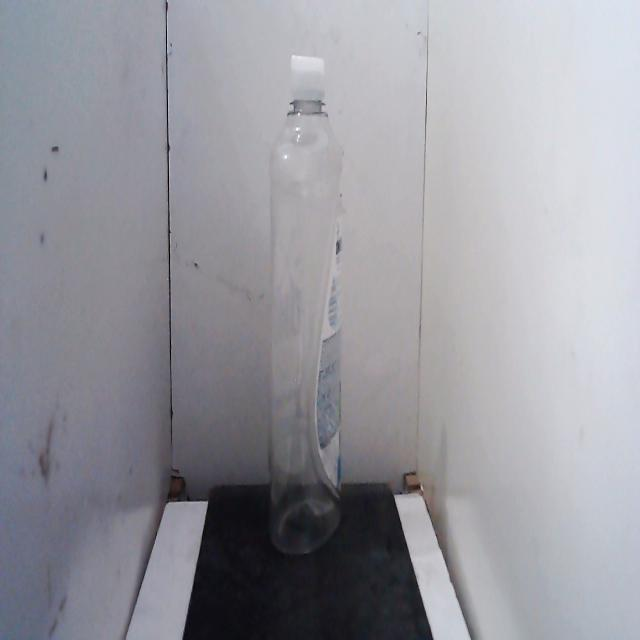plastico: (263, 33, 349, 567)
